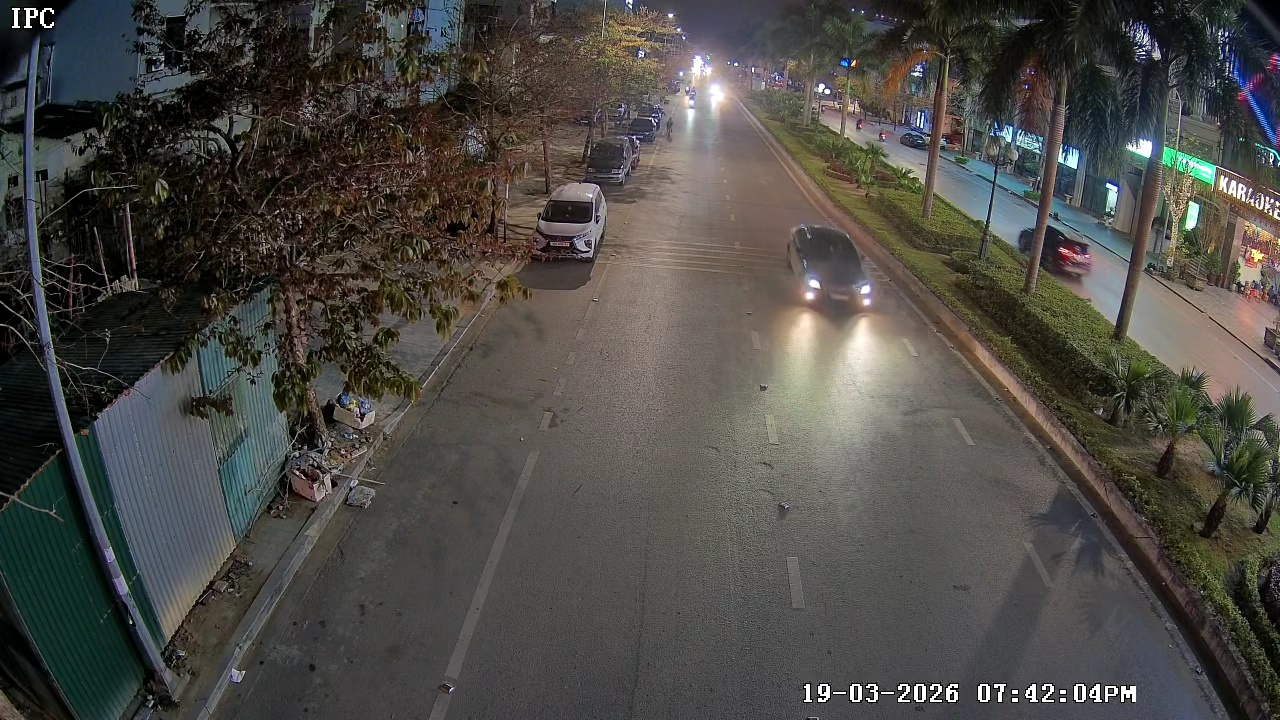car: (786, 221, 873, 314), (532, 180, 609, 264), (583, 129, 641, 188)
